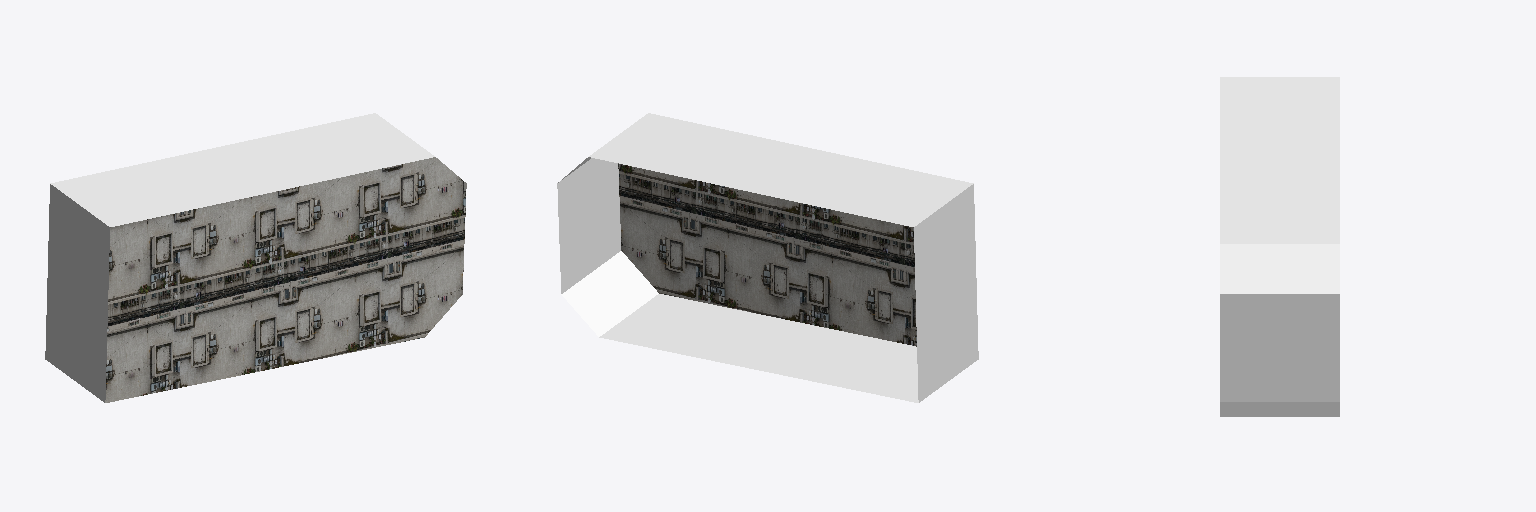
3 views of the same model, side by side, from view 1: azimuth 30°, elevation 25°; view 2: azimuth 150°, elevation 25°; view 3: azimuth 270°, elevation 25° (orthographic).
Parts seen in each view (by area): view 1: Building; view 2: Building; view 3: Building.
Boxes of the visible parts, x1,y1,x2,y2 form: Building: [45, 113, 466, 402]; Building: [557, 113, 978, 402]; Building: [1220, 77, 1339, 416].
Size of the model in its own units: 41.62 by 20.56 by 12.
2 materials, 1 textured.